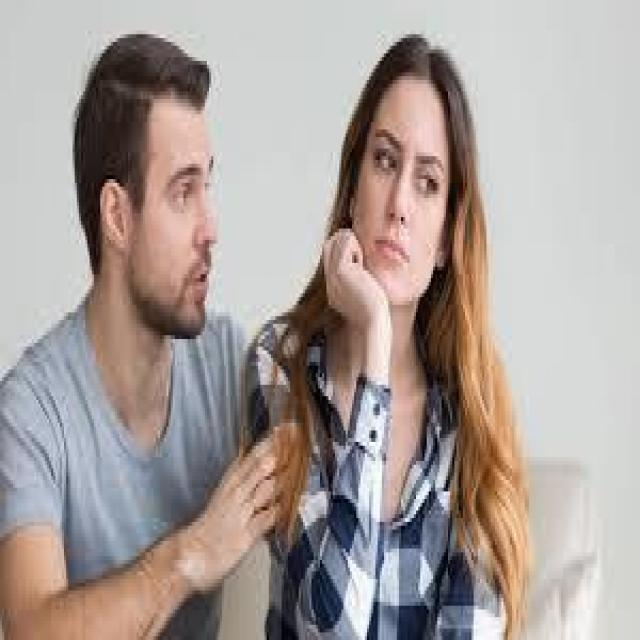person: (0, 8, 301, 636), (234, 4, 520, 636)
